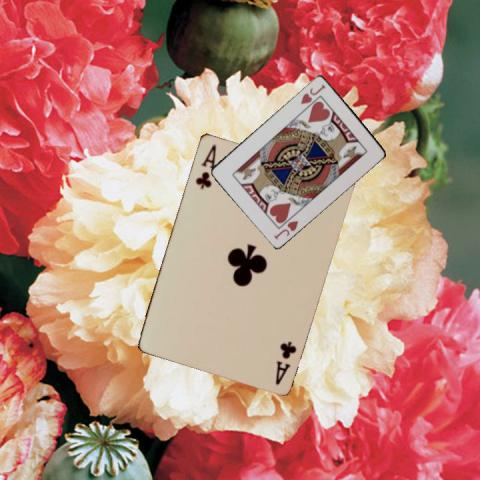Ac: (192, 141, 217, 190), (272, 338, 297, 386)
Jh: (297, 82, 327, 106), (271, 217, 299, 241)
